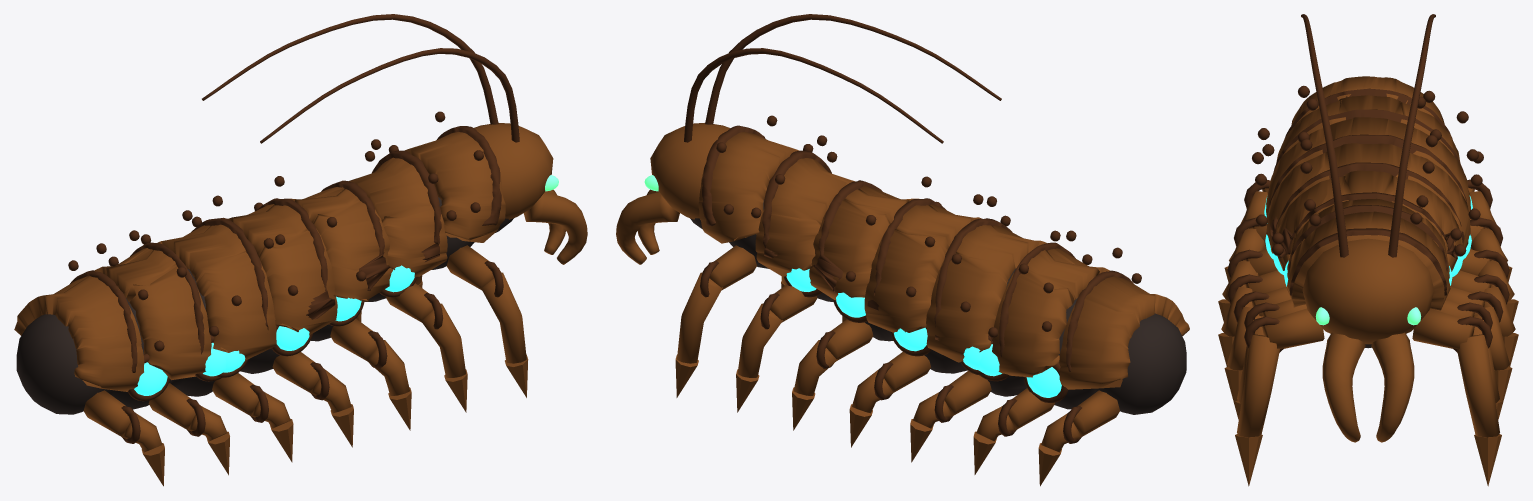
Rendered from centipede.glb.
3 renders of one model, left to right at view 1: azimuth 30°, elevation 25°; view 2: azimuth 150°, elevation 25°; view 3: azimuth 270°, elevation 25°, orthographic. The views are drawn at different scales.
Parts seen in each view (by area): view 1: Plate_2, Body, Plate_1, Plate_0, Plate_3, Plate_5, Plate_6, Plate_4, Helmet, Antenna_F, Mandible_N, Antenna_N (+23 smaller); view 2: Plate_2, Body, Plate_1, Plate_0, Plate_3, Plate_5, Plate_6, Plate_4, Helmet, Antenna_N, Mandible_F, Antenna_F (+22 smaller); view 3: Helmet, Plate_3, Plate_4, Plate_6, Plate_2, Mandible_N, Mandible_F, Leg_06a_Shin, Leg_06b_Shin, Plate_1, Antenna_N, Antenna_F (+44 smaller).
Part boxes in pixels (box(x1,y1,x2,y2)): Plate_2: box(157, 224, 276, 360); Body: box(16, 197, 513, 414); Plate_1: box(94, 248, 211, 380); Plate_0: box(14, 276, 144, 391); Plate_3: box(227, 204, 337, 335); Plate_5: box(348, 157, 447, 276); Plate_6: box(404, 132, 505, 242); Plate_4: box(288, 187, 392, 301); Helmet: box(474, 122, 553, 219); Antenna_F: box(202, 14, 498, 124); Mandible_N: box(523, 192, 587, 264); Antenna_N: box(260, 48, 519, 143); Plate_2: box(926, 225, 1047, 362); Body: box(690, 200, 1186, 414); Plate_1: box(992, 248, 1109, 377); Plate_0: box(1059, 276, 1189, 389); Plate_3: box(864, 204, 981, 332); Plate_5: box(755, 158, 855, 276); Plate_6: box(698, 132, 799, 243); Plate_4: box(809, 185, 918, 300); Helmet: box(650, 123, 730, 219); Antenna_N: box(705, 14, 1001, 124); Mandible_F: box(616, 192, 679, 264); Antenna_F: box(684, 48, 943, 143); Helmet: box(1302, 238, 1434, 344); Plate_3: box(1266, 143, 1470, 253); Plate_4: box(1276, 170, 1461, 271); Plate_6: box(1286, 211, 1450, 310); Plate_2: box(1266, 117, 1470, 218); Mandible_N: box(1322, 332, 1365, 442); Mandible_F: box(1371, 332, 1414, 442); Leg_06a_Shin: box(1237, 334, 1279, 437); Leg_06b_Shin: box(1457, 334, 1499, 437); Plate_1: box(1276, 95, 1460, 162); Antenna_N: box(1301, 14, 1348, 257); Antenna_F: box(1388, 14, 1435, 257).
Size of the model in its own units: 1.64 by 0.981 by 0.6841.
